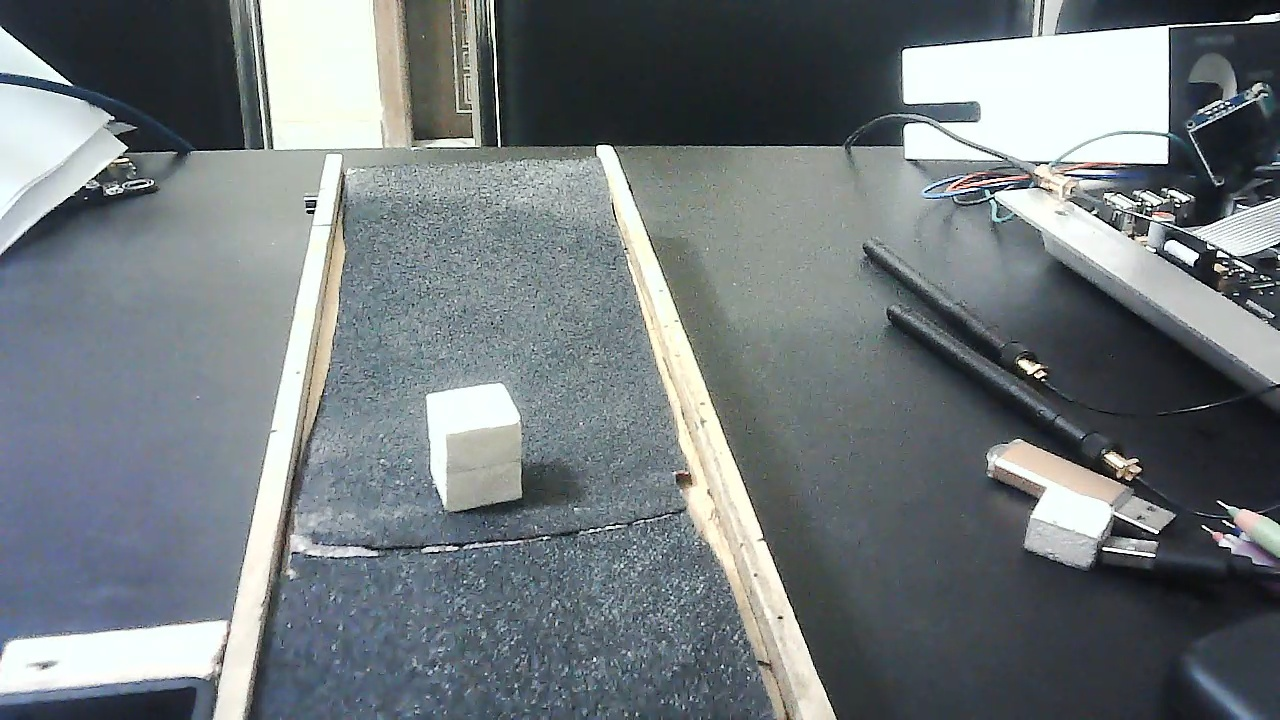Small: (410, 381, 540, 511)
